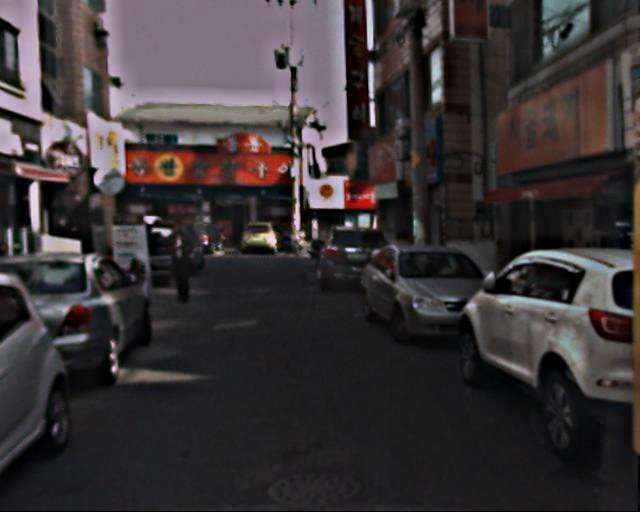person: (164, 217, 201, 306)
